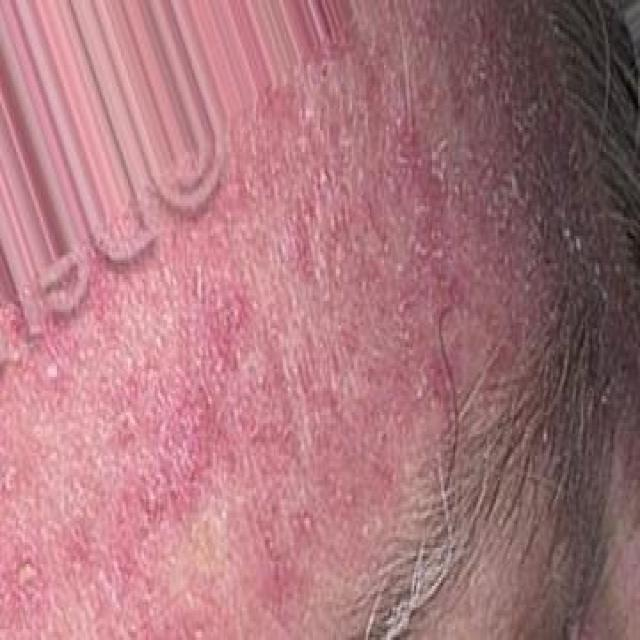Rosacea: (0, 97, 460, 626)
